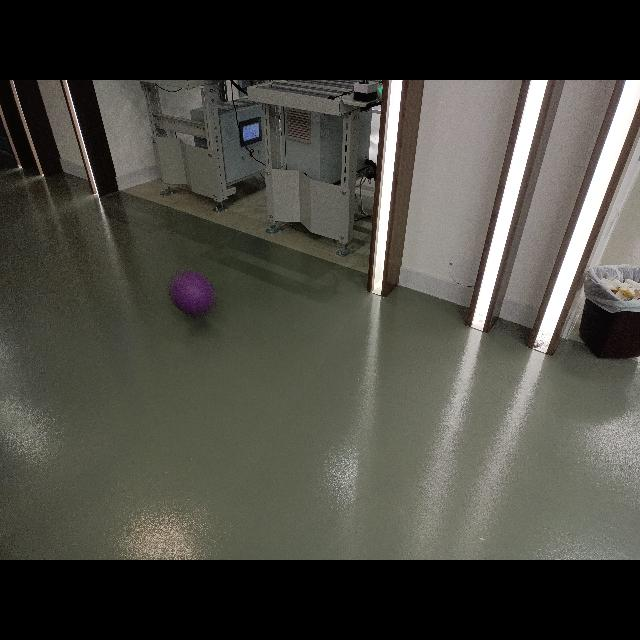P: (167, 264, 220, 320)
